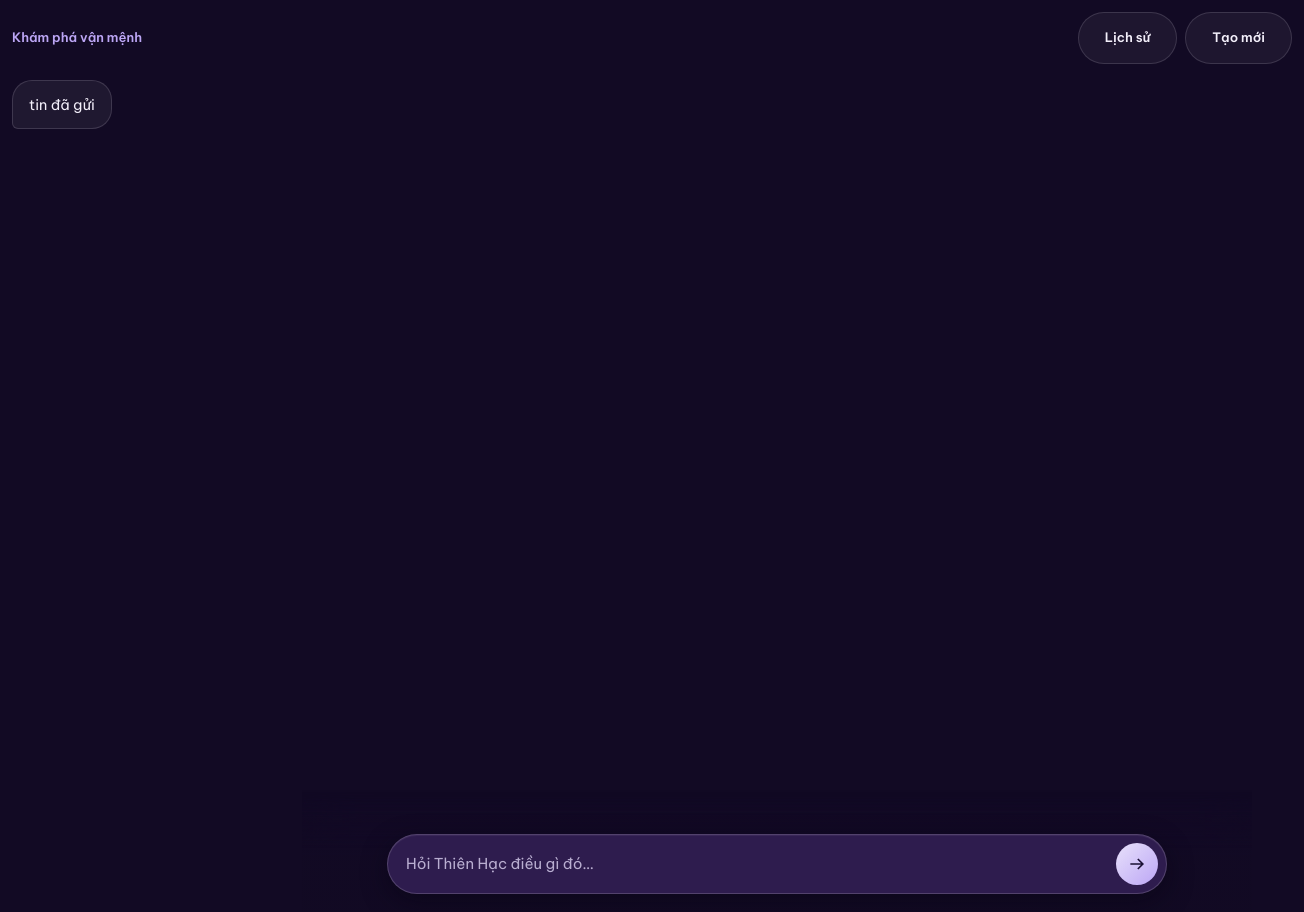
Test: HoiAiScreen › surfaces a backend error event and preserves partial text
Expected: the text "tin đã gửi" is shown, [29,94,95,115]
Type "Hỏi thử" into the field with placeholder "Hỏi Thiên Hạc điều gì đó…" at [756, 864], box [406,853,1106,875]
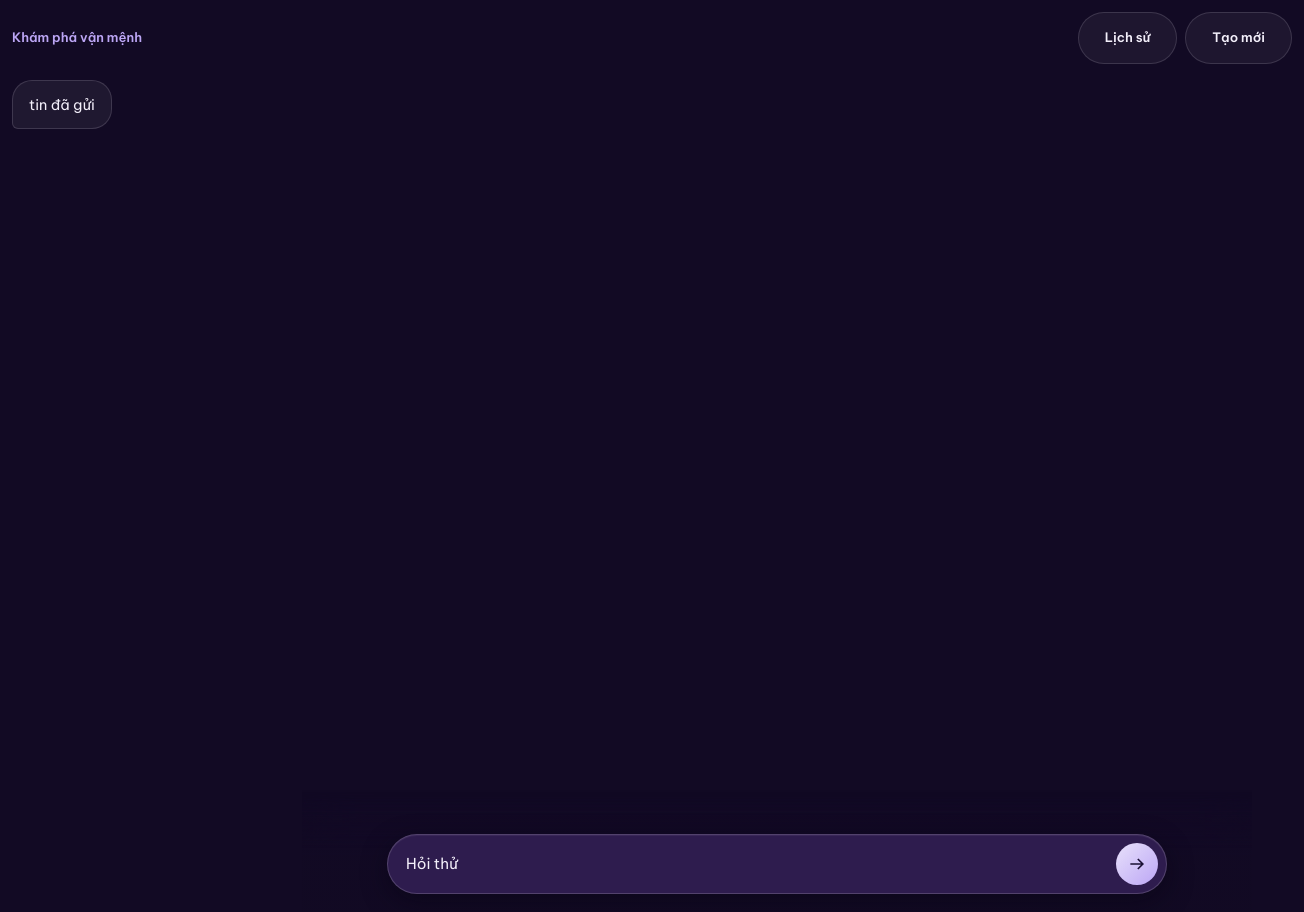
Click the button named "Gửi" at [1137, 864], box [1116,843,1158,885]
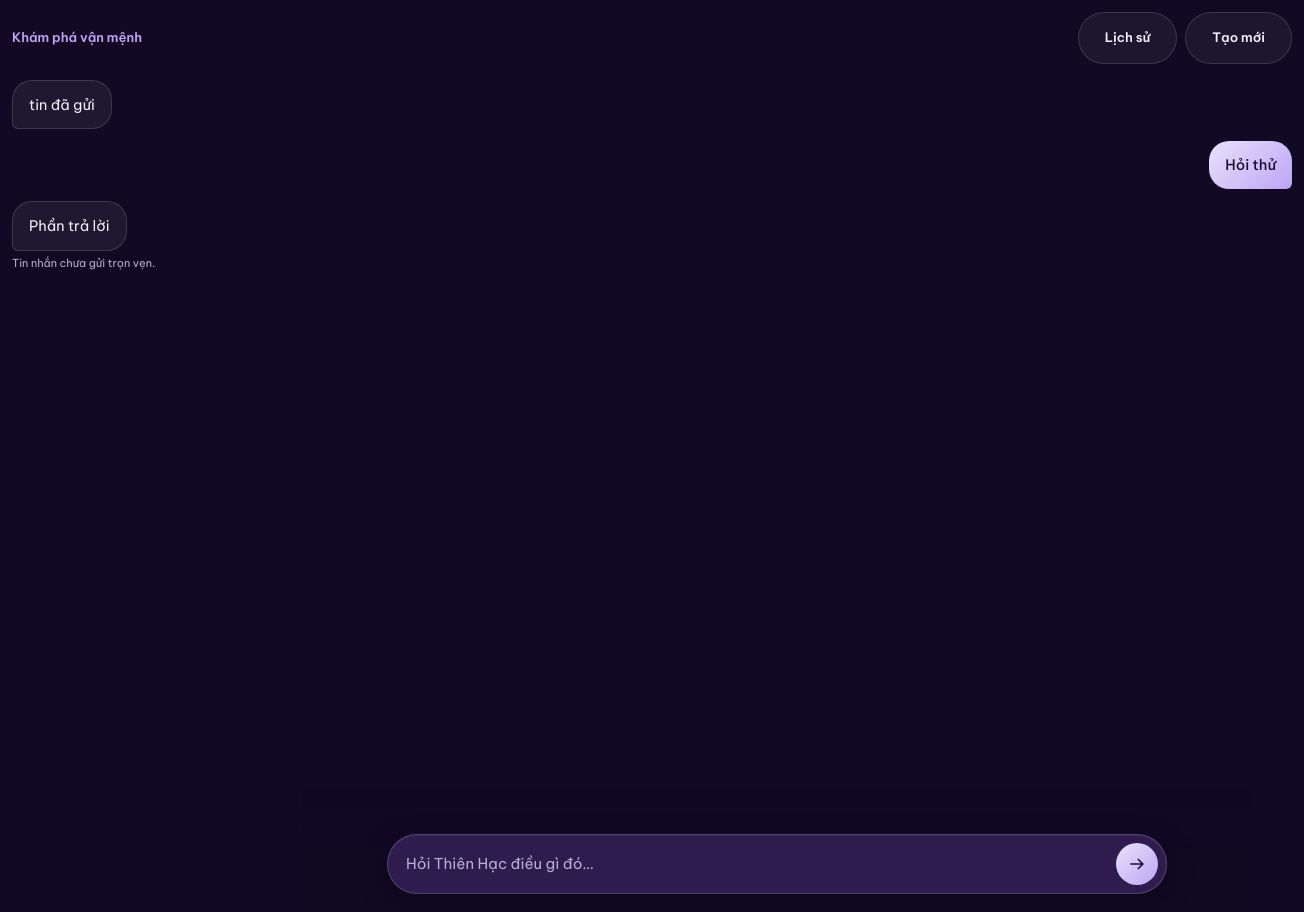
Expected: the text "Phần trả lời" is shown, [29,215,110,237]
Expected: the text "Tin nhắn chưa gửi trọn vẹn." is shown, [12,255,155,271]
